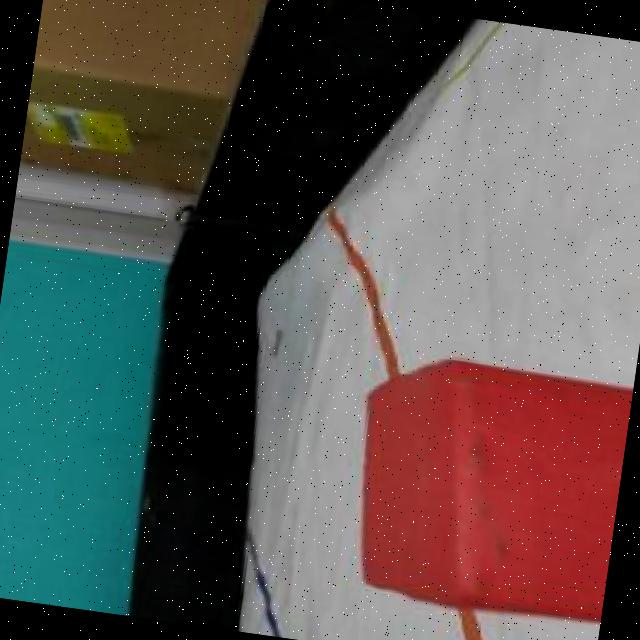redbox: (338, 344, 634, 628)
